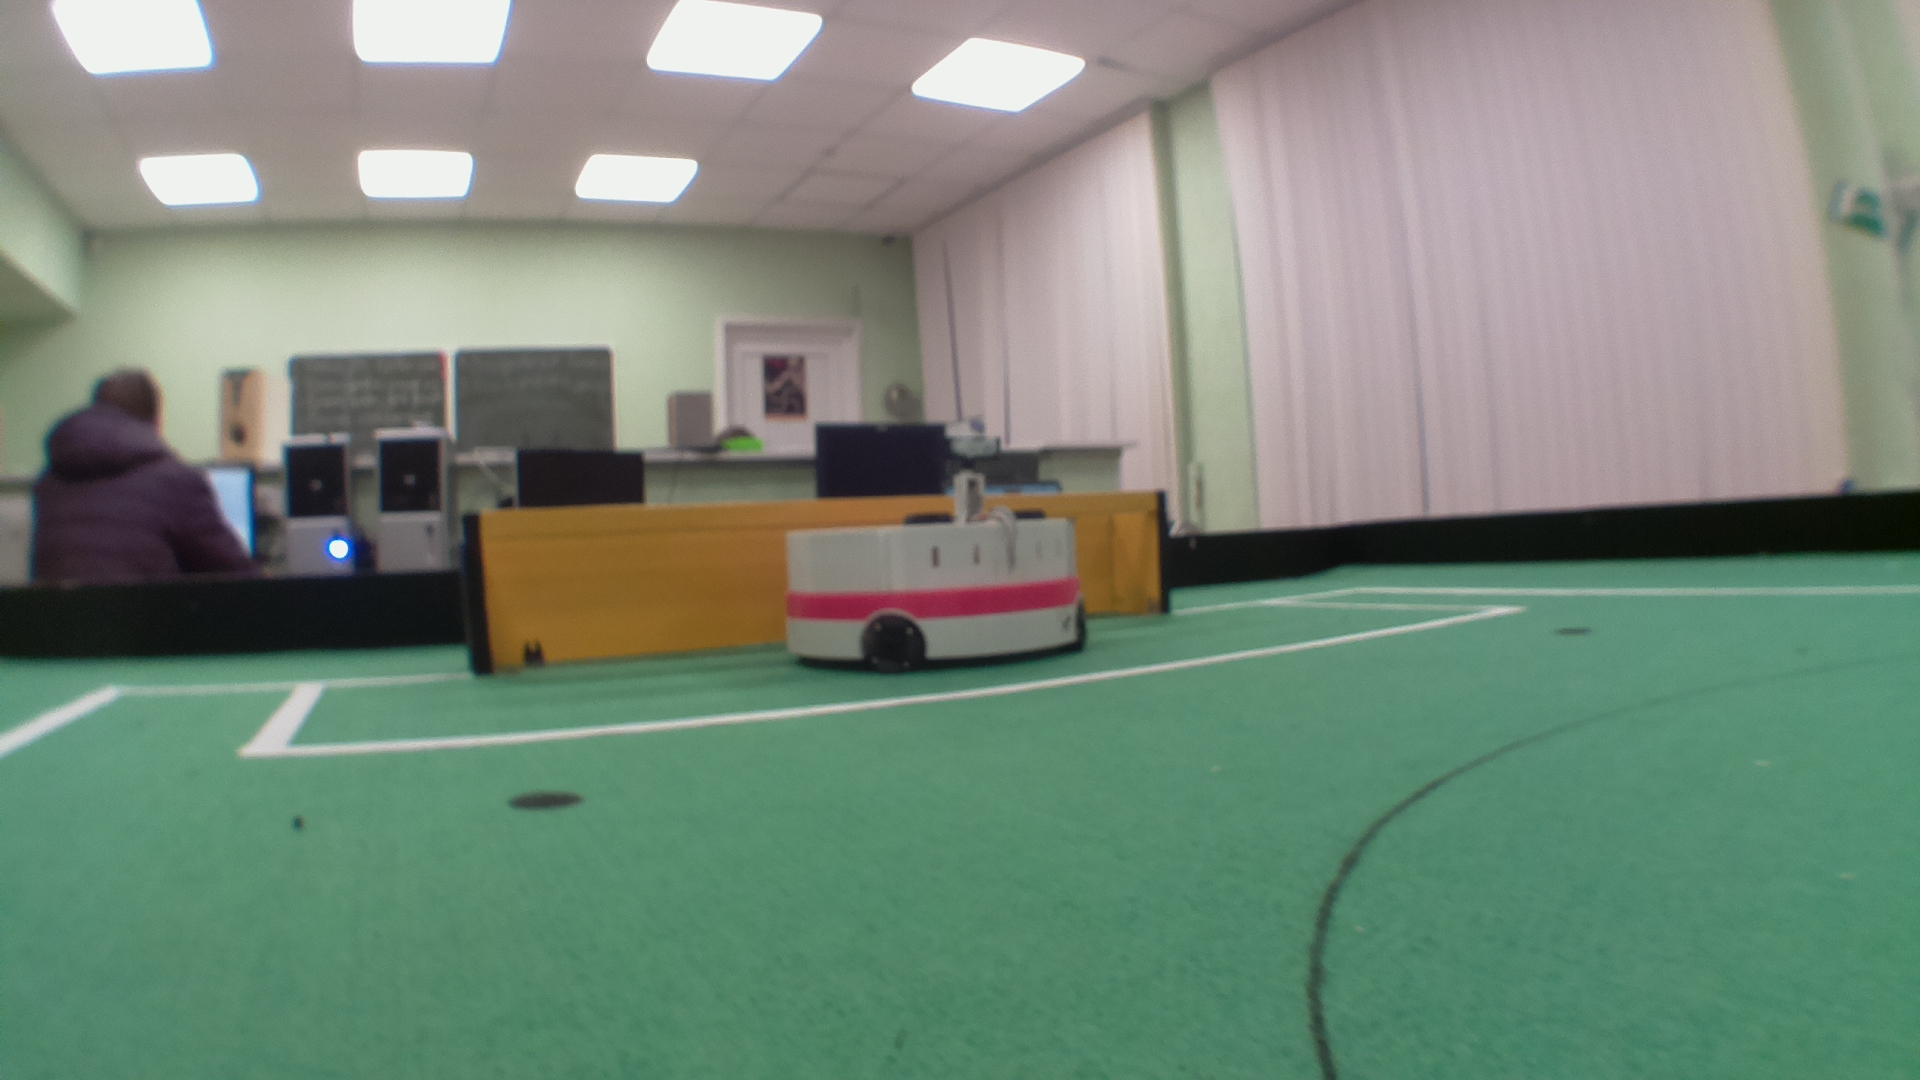YellowGoal: (472, 502, 800, 673)
